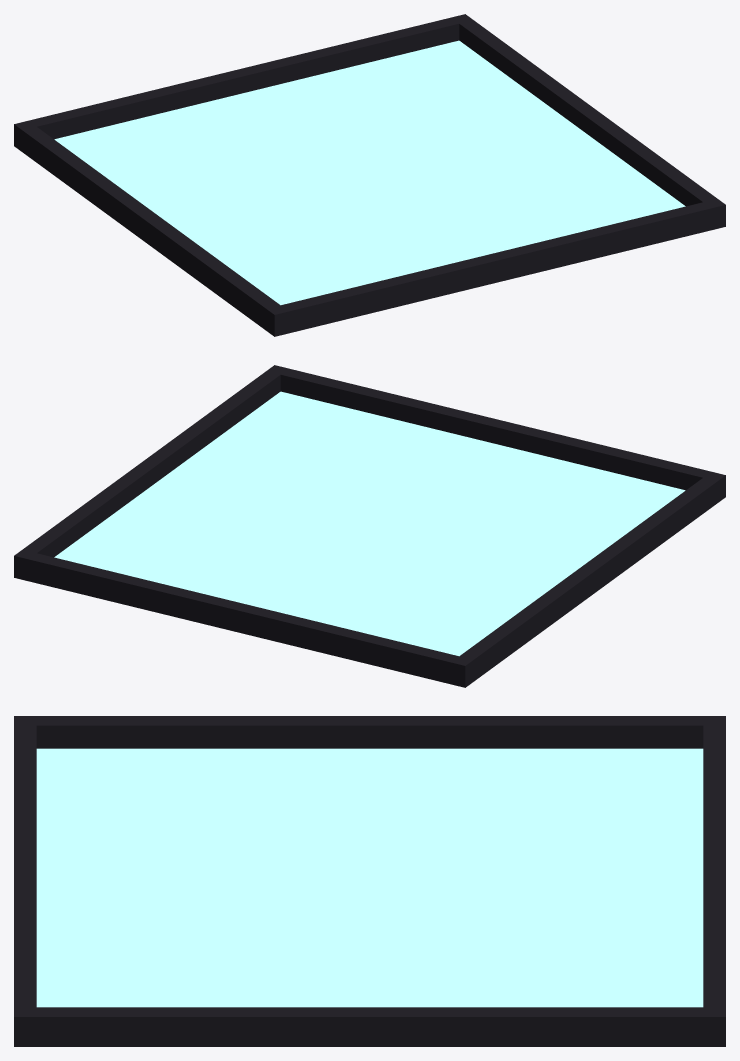
Rendered from OO_TileBlue.fbx.
3 renders of one model, top to bottom at view 1: azimuth 30°, elevation 25°; view 2: azimuth 150°, elevation 25°; view 3: azimuth 270°, elevation 25°, orthographic. The views are drawn at different scales.
Parts seen in each view (by area): view 1: Tile_Blue; view 2: Tile_Blue; view 3: Tile_Blue.
Boxes of the visible parts, <box> form: Tile_Blue: <box>14,14,725,336</box>; Tile_Blue: <box>14,365,725,687</box>; Tile_Blue: <box>14,716,725,1046</box>.
Bounding box in the file's own units: 200 × 9.3 × 200.
